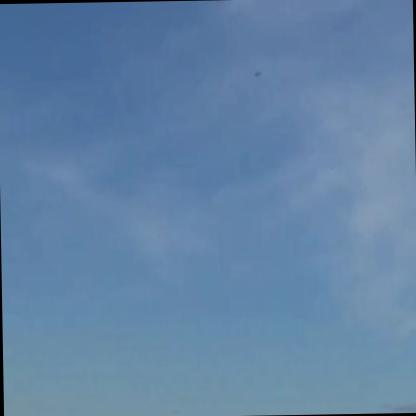plane: (249, 63, 266, 81)
